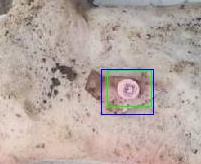text: (107, 70, 151, 106)
